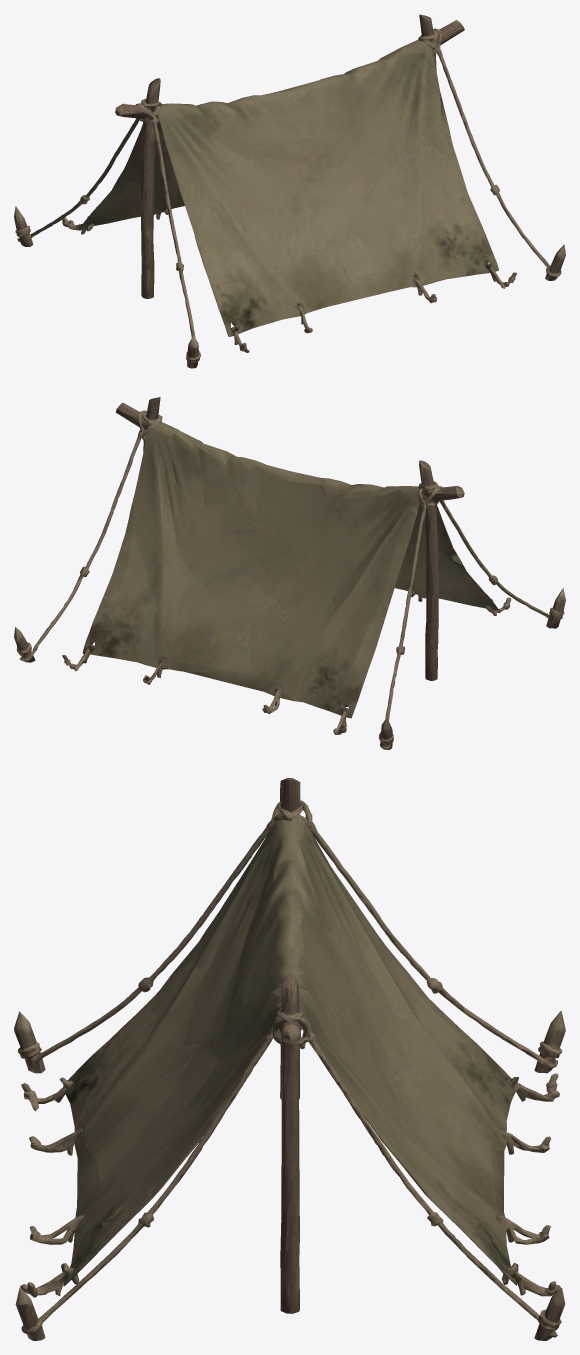
Rendered from tarp_tent.glb.
3 renders of one model, top to bottom at view 1: azimuth 30°, elevation 25°; view 2: azimuth 150°, elevation 25°; view 3: azimuth 270°, elevation 25°, orthographic. The views are drawn at different scales.
Visible parts, largest first — view 1: output_unwrapped; view 2: output_unwrapped; view 3: output_unwrapped.
Boxes of the visible parts, <box> form: output_unwrapped: <box>14,14,565,368</box>; output_unwrapped: <box>14,397,565,749</box>; output_unwrapped: <box>14,778,565,1340</box>.
Size of the model in its own units: 1.9 by 1.04 by 1.58.
Materials: 1 (1 with a texture image).
